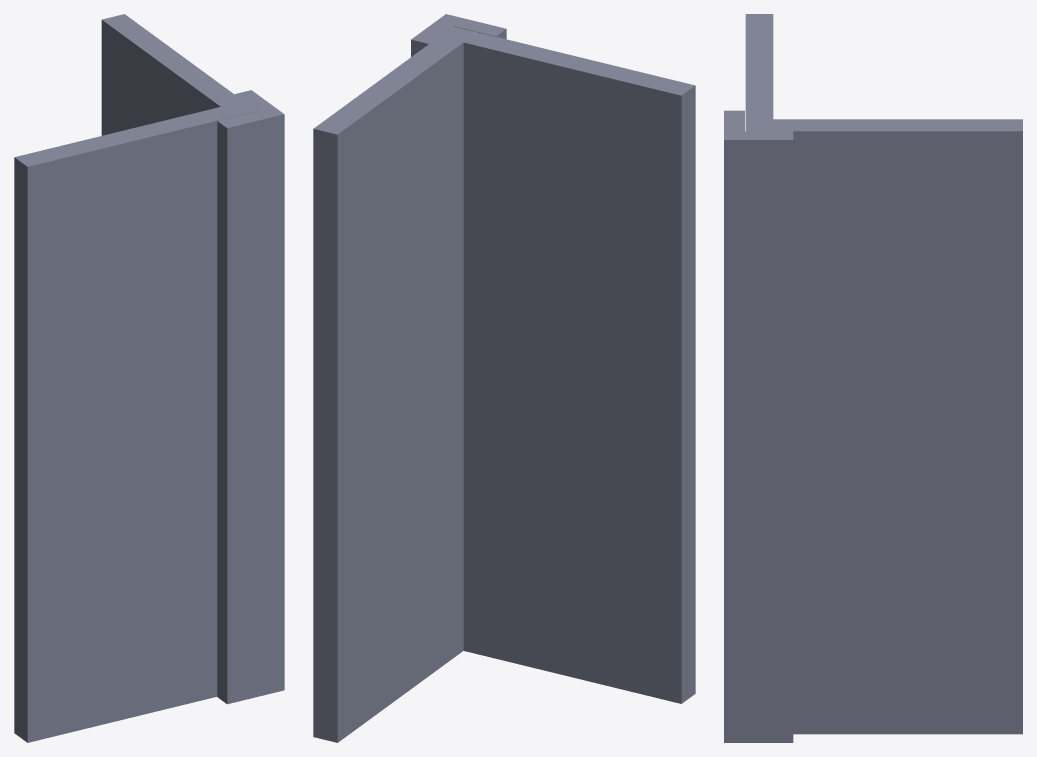
File: wall-corner-column-small.obj
3 renders of one model, left to right at view 1: azimuth 30°, elevation 25°; view 2: azimuth 150°, elevation 25°; view 3: azimuth 270°, elevation 25°, orthographic. The views are drawn at different scales.
Bounding box in the file's own units: 1.08 × 2.4 × 1.08.
